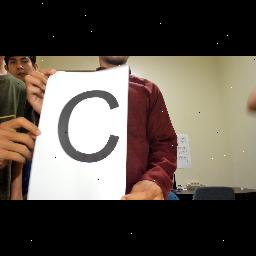c: (56, 88, 122, 164)
